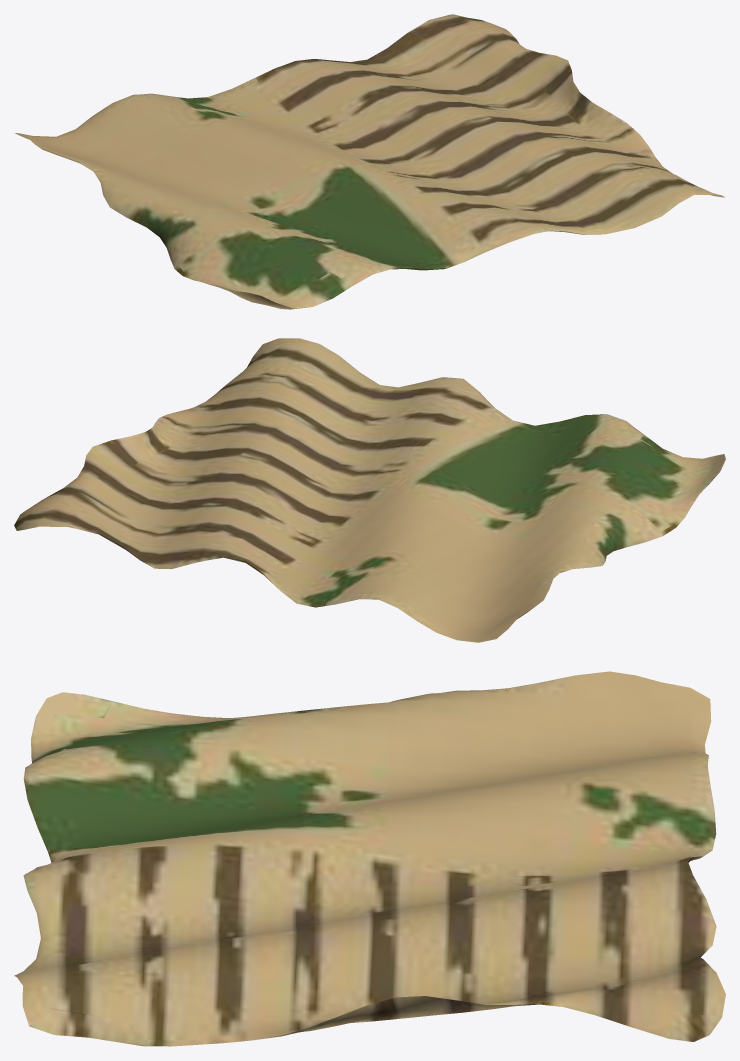
Rendered from herbal_scrap.glb.
The picture shows the model from 3 angles, top to bottom: view 1: azimuth 30°, elevation 25°; view 2: azimuth 150°, elevation 25°; view 3: azimuth 270°, elevation 25°; orthographic projection. The views are drawn at different scales.
Visible parts, largest first — view 1: herbal_scrap; view 2: herbal_scrap; view 3: herbal_scrap.
Part boxes in pixels (bbox=[...]): herbal_scrap: bbox=[15, 14, 724, 309]; herbal_scrap: bbox=[14, 338, 725, 642]; herbal_scrap: bbox=[14, 671, 725, 1046].
Bounding box in the file's own units: 0.0865 × 0.0054 × 0.0769.
Materials: 1 (1 with a texture image).
